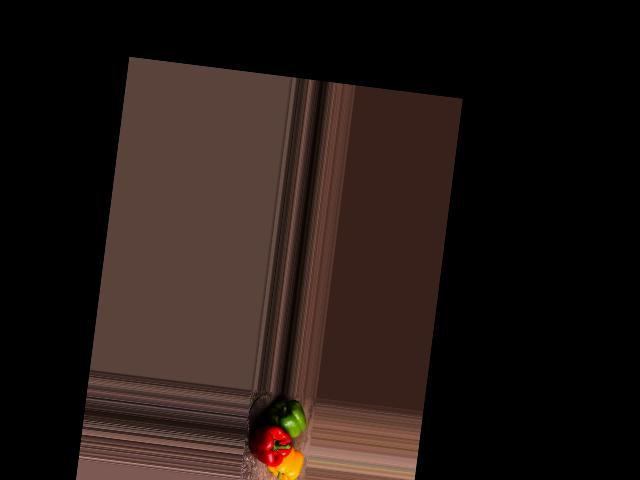bell_pepper: (265, 446, 306, 480)
